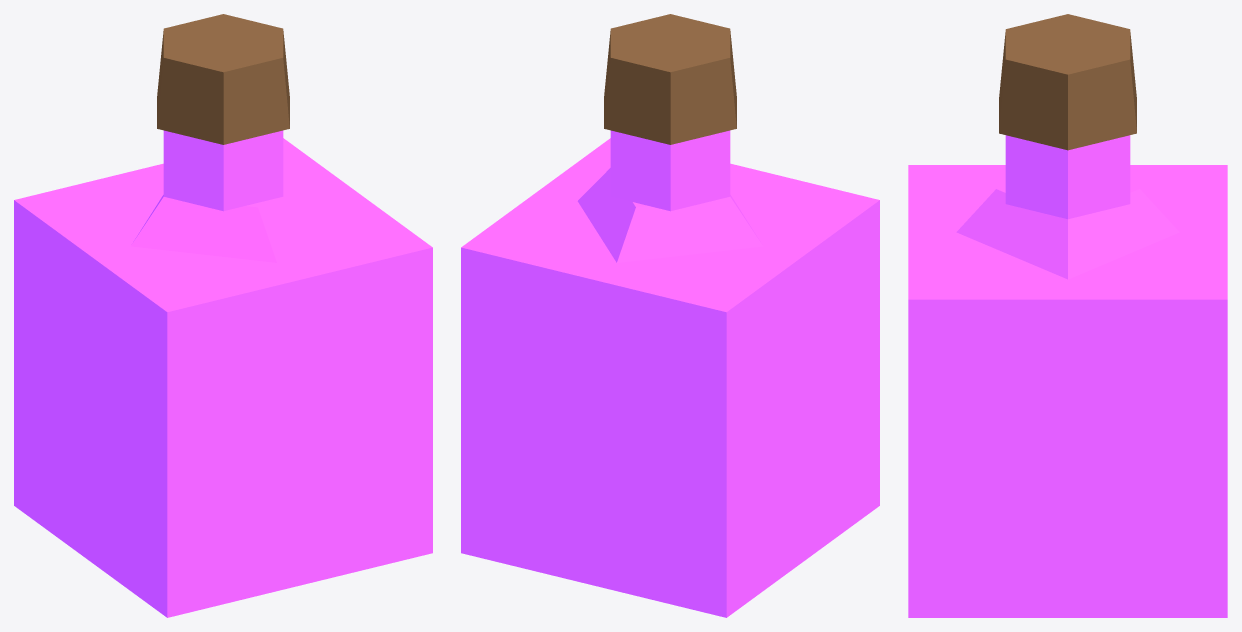
Rendered from potion_of_restoration.glb.
3 views of the same model, side by side, from view 1: azimuth 30°, elevation 25°; view 2: azimuth 150°, elevation 25°; view 3: azimuth 270°, elevation 25° (orthographic). The views are drawn at different scales.
Parts seen in each view (by area): view 1: potion_of_restoration; view 2: potion_of_restoration; view 3: potion_of_restoration.
Part boxes in pixels (x1,y1,x2,y2): potion_of_restoration: (14, 14, 432, 617); potion_of_restoration: (461, 14, 879, 617); potion_of_restoration: (908, 14, 1227, 617).
Size of the model in its own units: 0.3 by 0.525 by 0.3.
